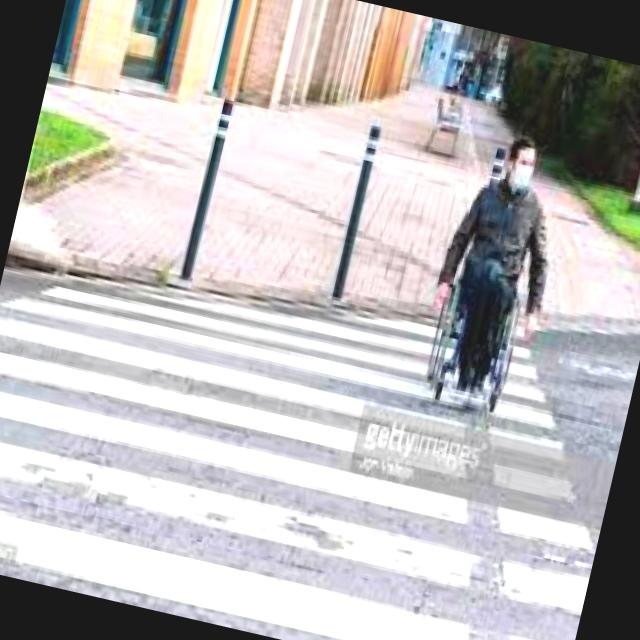Person: (412, 123, 580, 426)
